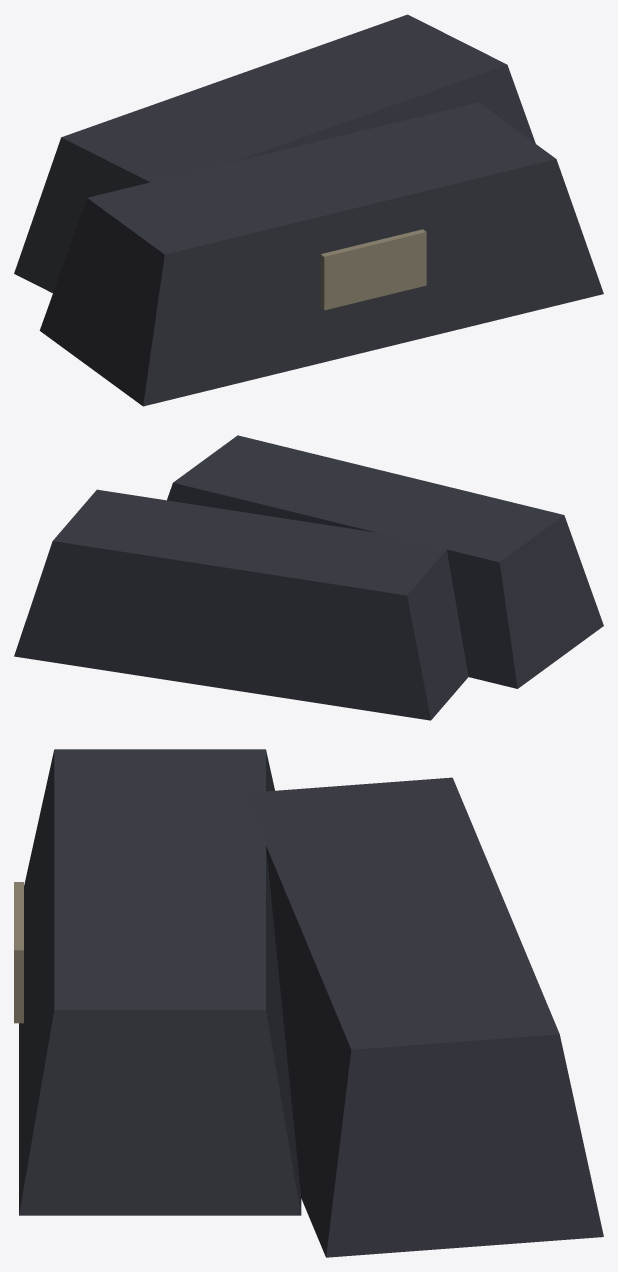
File: grave_iron.glb
The picture shows the model from 3 angles, top to bottom: view 1: azimuth 30°, elevation 25°; view 2: azimuth 150°, elevation 25°; view 3: azimuth 270°, elevation 25°; orthographic projection. The views are drawn at different scales.
Parts seen in each view (by area): view 1: GraveIron; view 2: GraveIron; view 3: GraveIron.
Boxes of the visible parts, x1=… form: GraveIron: x1=14, y1=14, x2=603, y2=406; GraveIron: x1=14, y1=435, x2=603, y2=720; GraveIron: x1=14, y1=749, x2=603, y2=1257.
Size of the model in its own units: 0.4094 by 0.1 by 0.2927.
